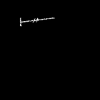treble_crochet: (20, 19, 42, 25)
